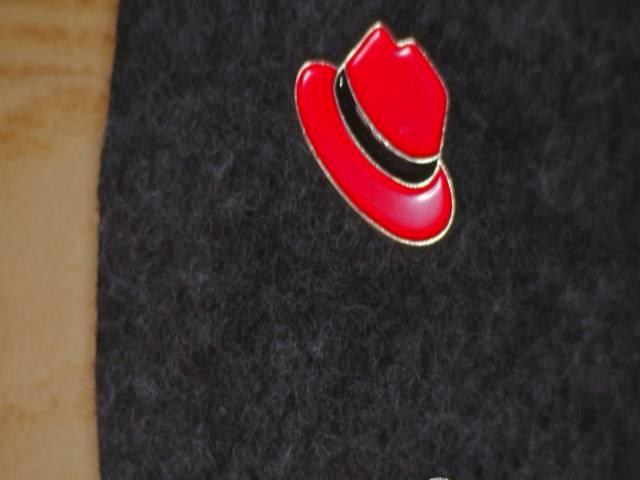Red-Hat: (283, 17, 470, 261)
